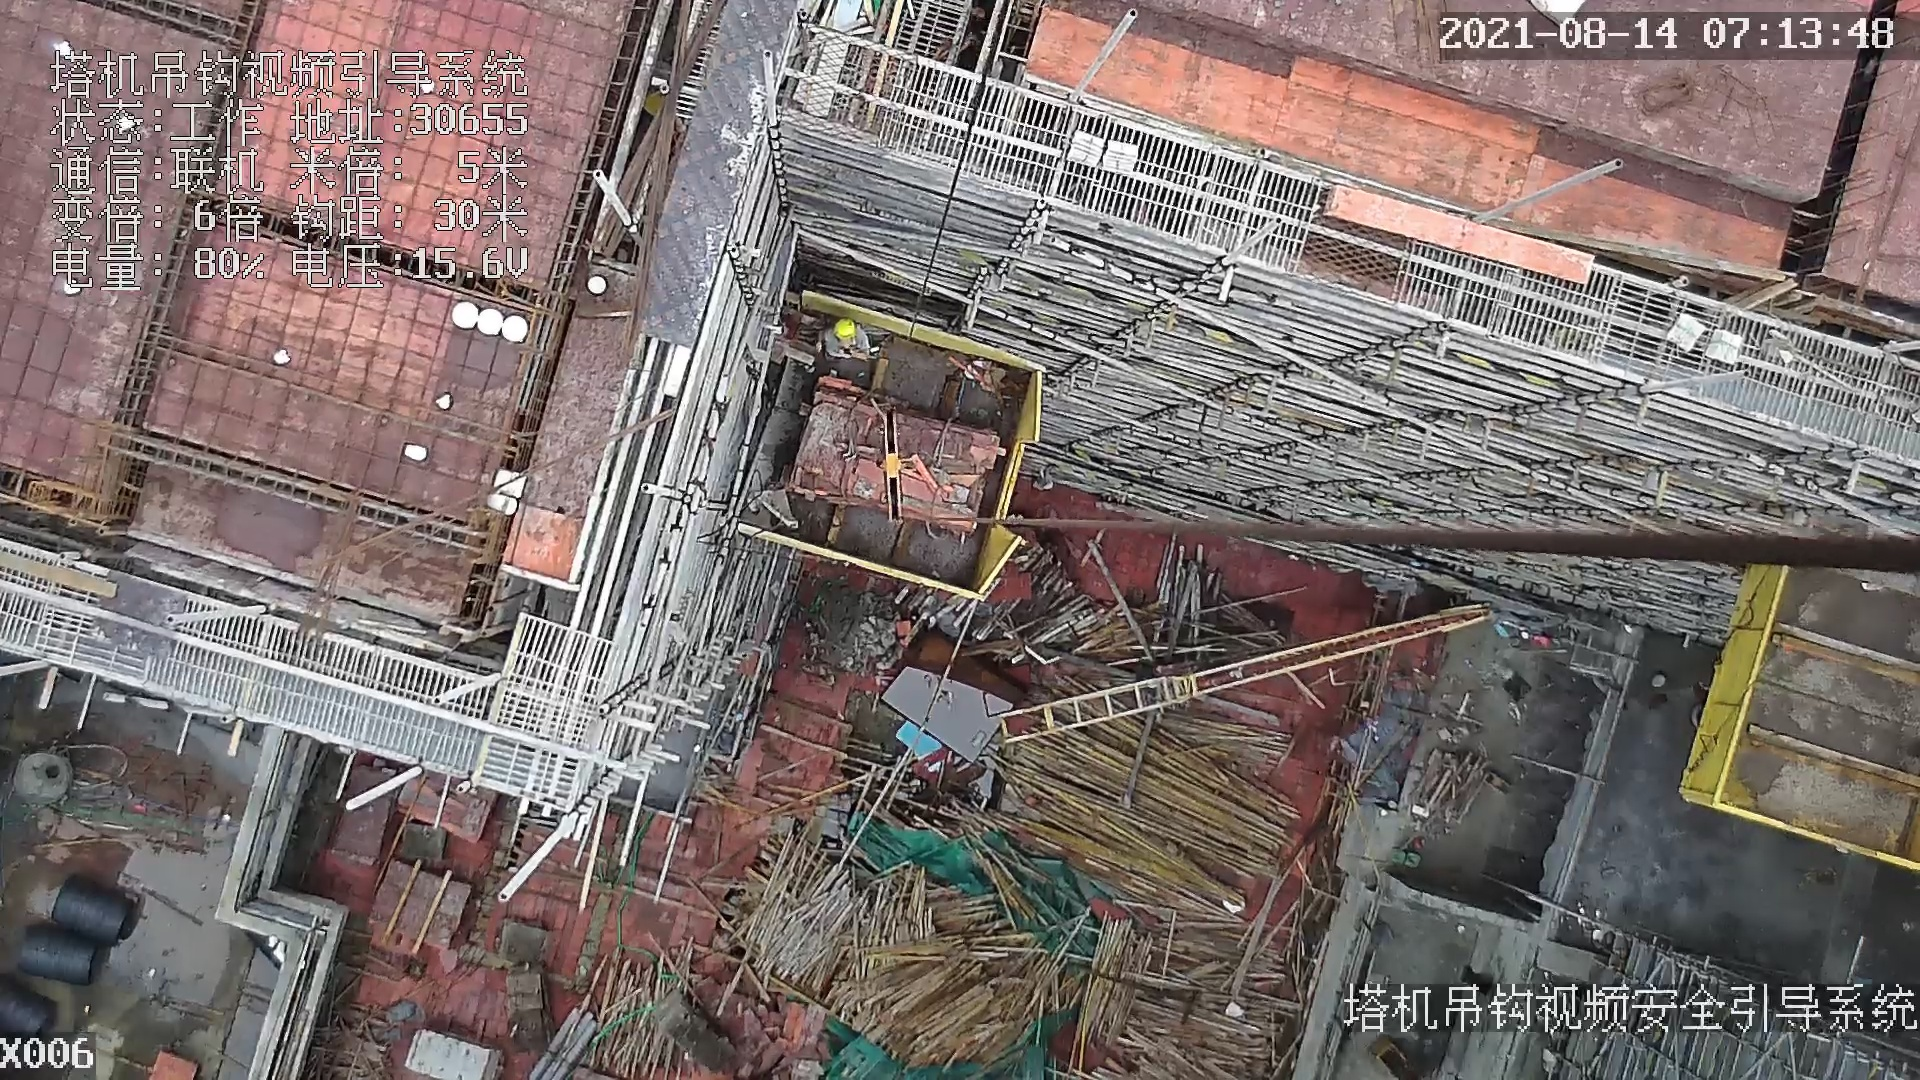helmet: (834, 319, 856, 338)
hook: (876, 406, 912, 528)
person: (788, 328, 873, 374)
